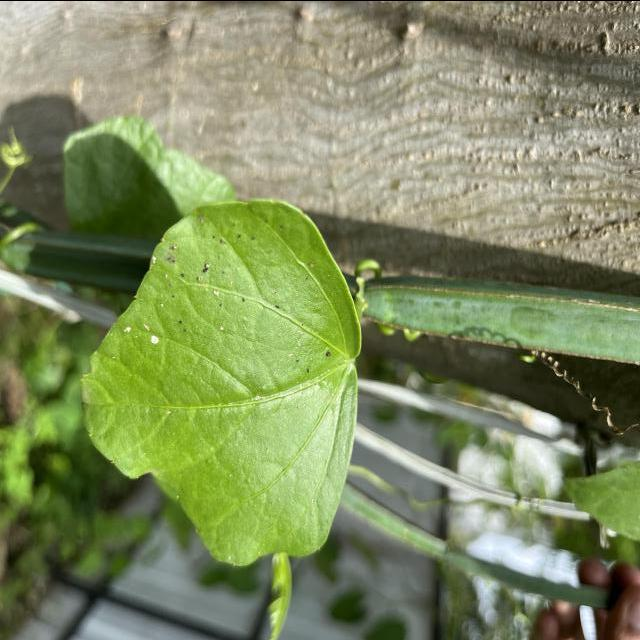Cissus quadrangularis: (77, 195, 366, 568)
